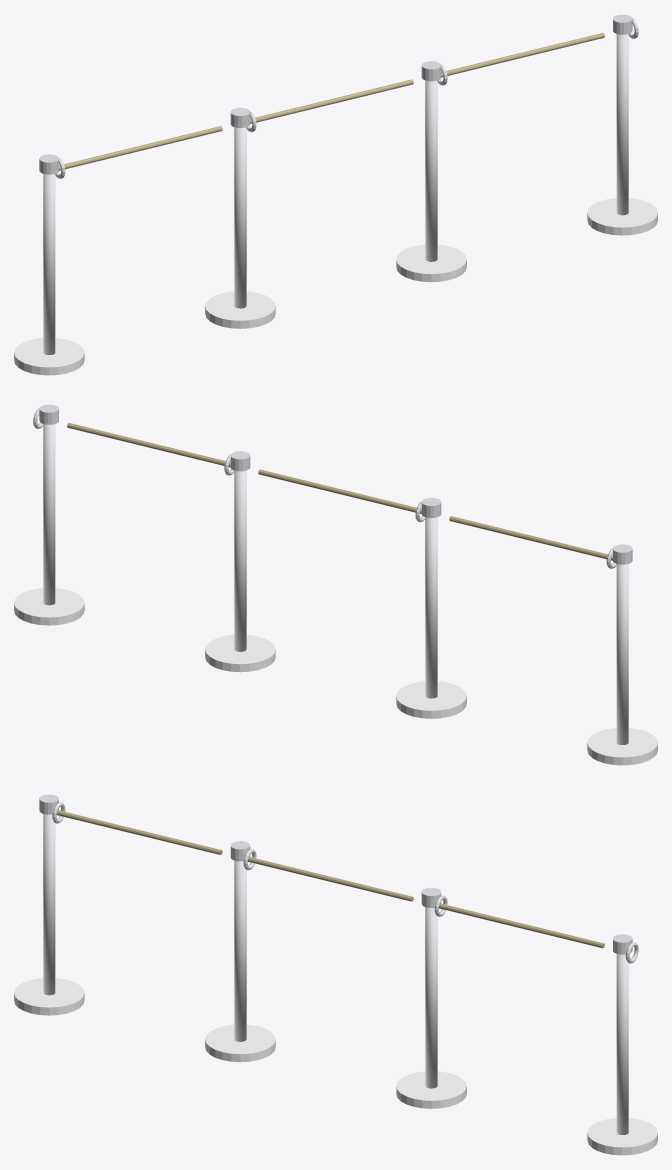
The model's file is hm_bank_queue_poles_v2.glb.
The picture shows the model from 3 angles, top to bottom: view 1: azimuth 30°, elevation 25°; view 2: azimuth 150°, elevation 25°; view 3: azimuth 330°, elevation 25°; orthographic projection.
Visible parts, largest first — view 1: ST_Pole.003, ST_Pole.001, ST_Pole.002, ST_Pole, ST_Base, ST_Base.003, ST_Base.002, ST_Base.001, ST_Rope, ST_Rope.002, ST_Rope.001; view 2: ST_Pole.003, ST_Pole.001, ST_Pole.002, ST_Pole, ST_Base, ST_Base.003, ST_Base.002, ST_Base.001, ST_Rope, ST_Rope.002, ST_Rope.001; view 3: ST_Pole.002, ST_Pole, ST_Pole.001, ST_Pole.003, ST_Base.003, ST_Base, ST_Base.001, ST_Base.002, ST_Rope.002, ST_Rope, ST_Rope.001.
Part boxes in pixels (x1,y1,x2,y2): ST_Pole.003: (616, 34, 628, 215); ST_Pole.001: (234, 127, 246, 308); ST_Pole.002: (425, 80, 437, 261); ST_Pole: (43, 174, 55, 354); ST_Base: (14, 338, 84, 375); ST_Base.003: (587, 198, 657, 235); ST_Base.002: (396, 244, 466, 282); ST_Base.001: (205, 291, 275, 328); ST_Rope: (59, 126, 222, 170); ST_Rope.002: (441, 33, 604, 77); ST_Rope.001: (250, 79, 413, 123); ST_Pole.003: (43, 424, 55, 605); ST_Pole.001: (425, 517, 437, 698); ST_Pole.002: (234, 470, 246, 651); ST_Pole: (616, 564, 628, 744); ST_Base: (587, 728, 657, 765); ST_Base.003: (14, 588, 84, 625); ST_Base.002: (205, 634, 275, 672); ST_Base.001: (396, 681, 466, 718); ST_Rope: (449, 516, 612, 560); ST_Rope.002: (67, 423, 230, 467); ST_Rope.001: (258, 469, 421, 513); ST_Pole.002: (425, 907, 437, 1088); ST_Pole: (43, 814, 55, 995); ST_Pole.001: (234, 860, 246, 1041); ST_Pole.003: (616, 954, 628, 1134); ST_Base.003: (587, 1118, 657, 1155); ST_Base: (14, 978, 84, 1015); ST_Base.001: (205, 1024, 275, 1062); ST_Base.002: (396, 1071, 466, 1108); ST_Rope.002: (439, 903, 604, 948); ST_Rope: (56, 810, 222, 854); ST_Rope.001: (248, 857, 413, 901).
Size of the model in its own units: 3.32 by 1.01 by 0.32.
